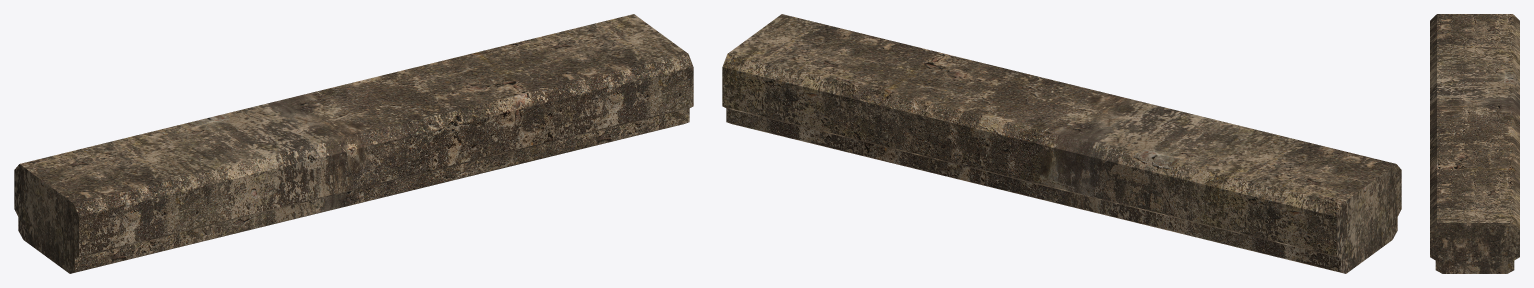
Rendered from materials_5_stonestick_short_2.fbx.
3 renders of one model, left to right at view 1: azimuth 30°, elevation 25°; view 2: azimuth 150°, elevation 25°; view 3: azimuth 270°, elevation 25°, orthographic. The views are drawn at different scales.
Parts seen in each view (by area): view 1: materials_5_stonestick_short_2; view 2: materials_5_stonestick_short_2; view 3: materials_5_stonestick_short_2.
Boxes of the visible parts, bbox=[...] form: materials_5_stonestick_short_2: bbox=[14, 14, 693, 273]; materials_5_stonestick_short_2: bbox=[722, 14, 1401, 273]; materials_5_stonestick_short_2: bbox=[1430, 14, 1519, 273].
Size of the model in its own units: 144 by 16.4 by 26.21.
